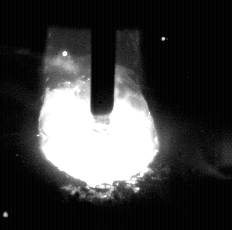arame: (91, 0, 115, 134)
poca: (38, 0, 159, 230)
